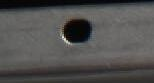holes: (60, 16, 94, 45)
